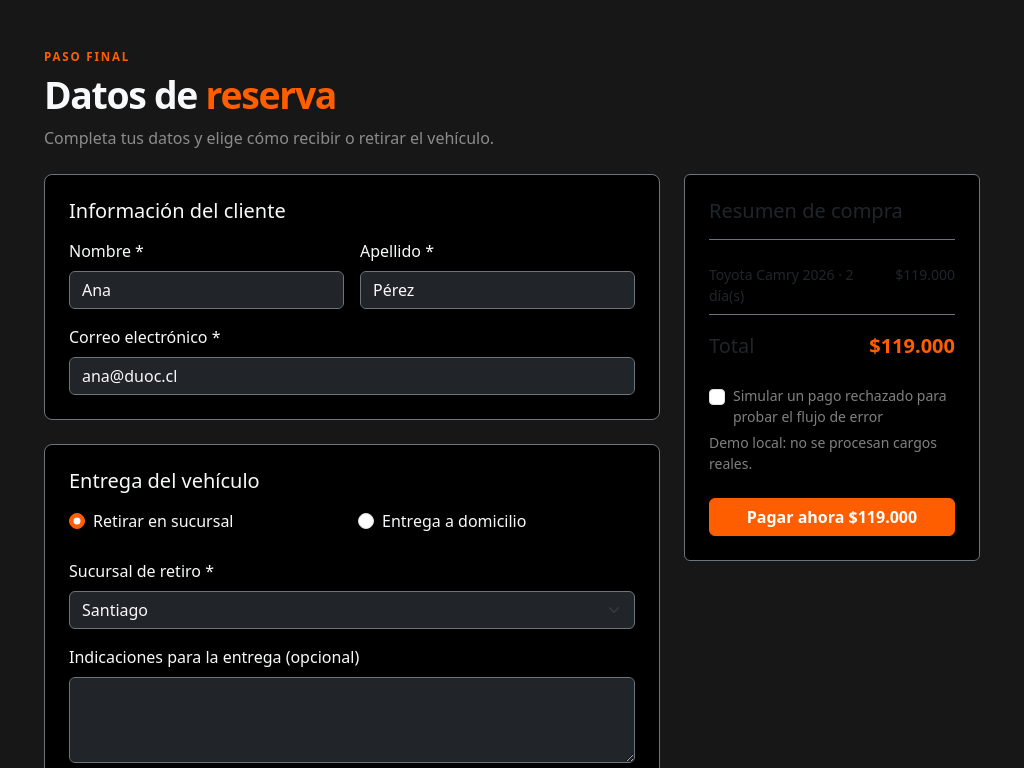
Test: Checkout flow › keeps cart when simulated payment is rejected
Click the checkbox labelled "Simular un pago rechazado para probar el flujo de error": (717, 397) [709,389,725,405]
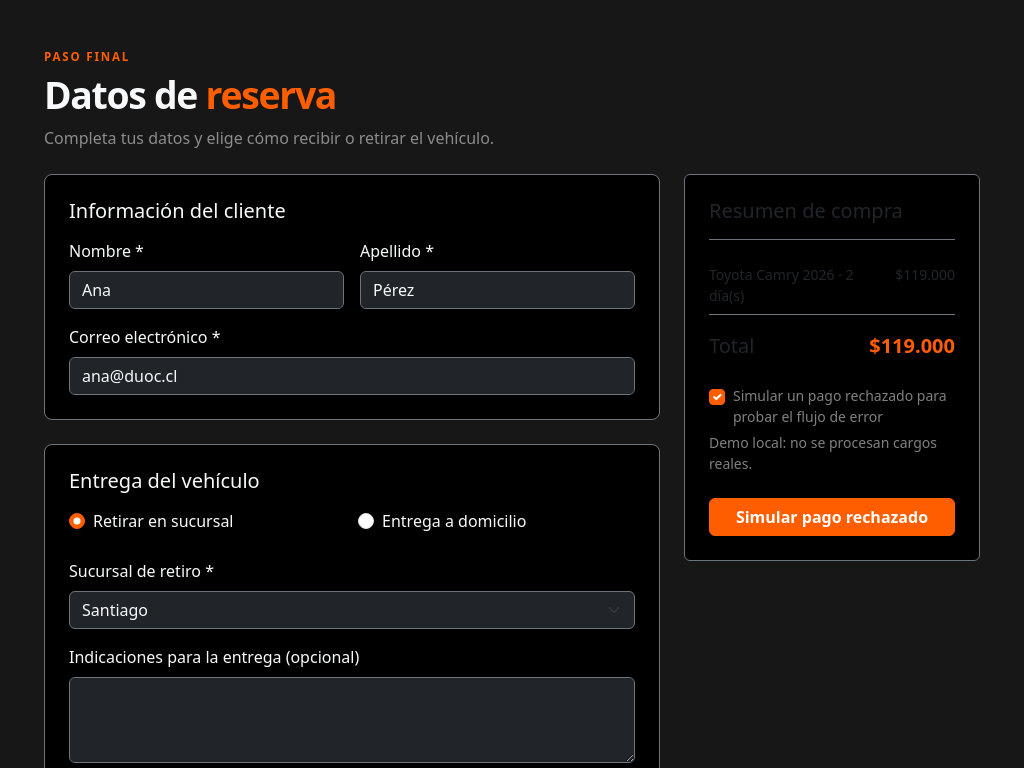
Click the button "Simular pago rechazado": (832, 517) [709,498,955,536]
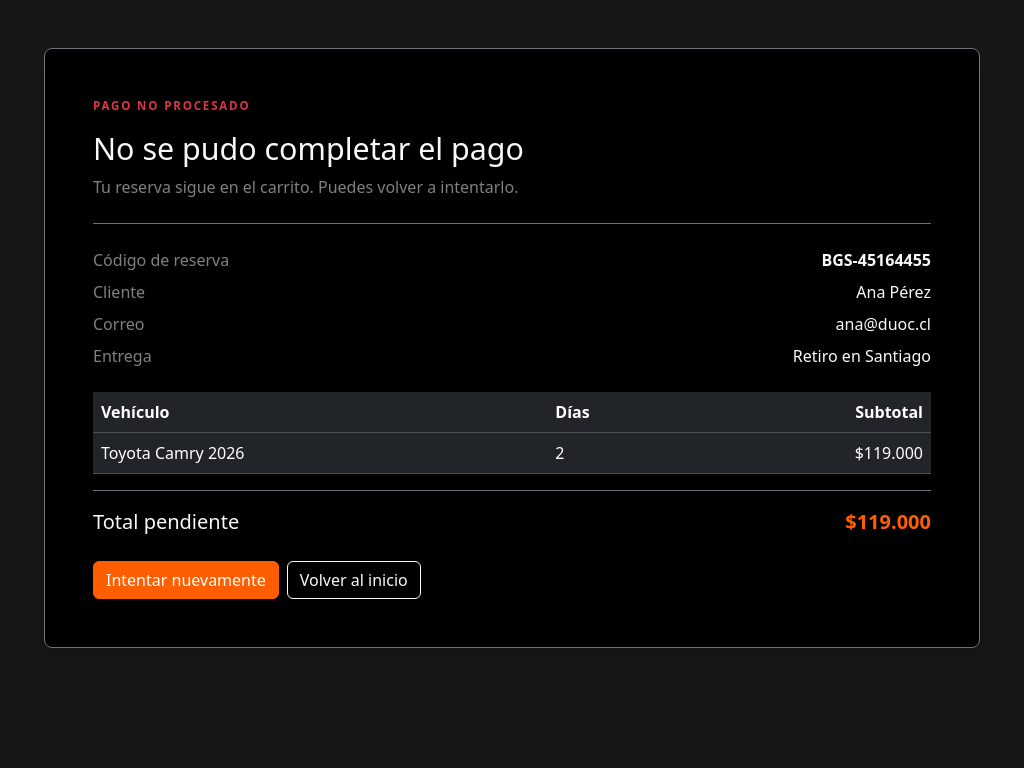
Now the heading "No se pudo completar el pago" is shown, box [93,127,524,169]
